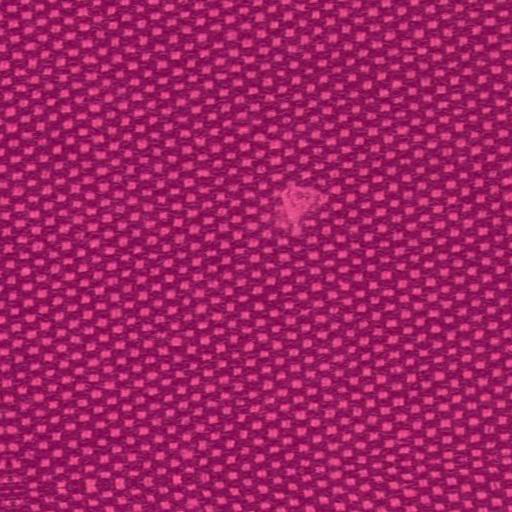knot: (268, 180, 336, 248)
